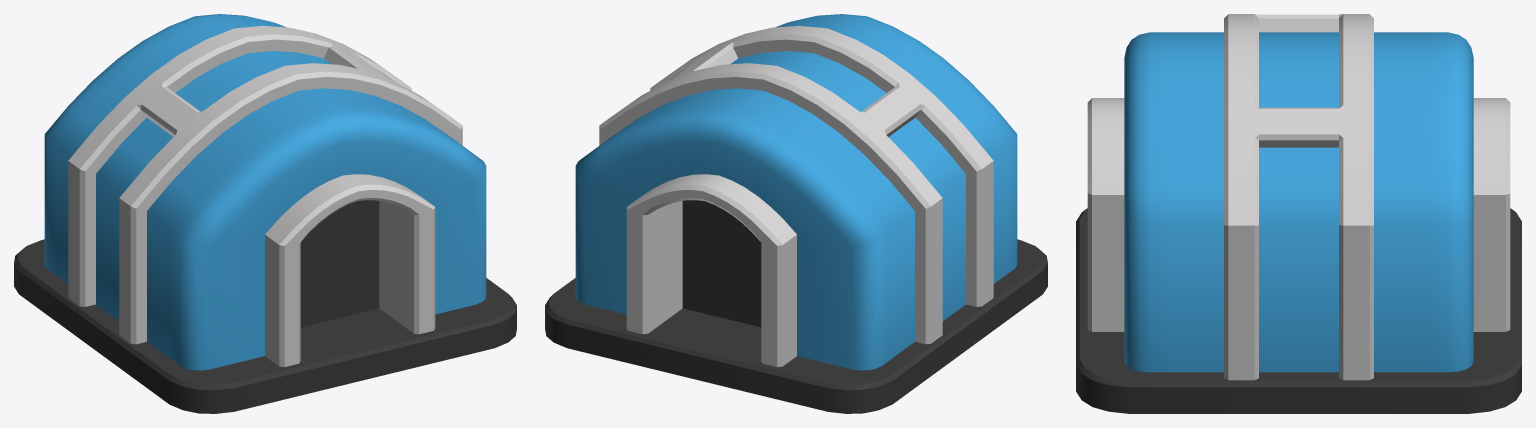
The model's file is Barracks_New.fbx.
The picture shows the model from 3 angles, left to right: view 1: azimuth 30°, elevation 25°; view 2: azimuth 150°, elevation 25°; view 3: azimuth 270°, elevation 25°; orthographic projection. The views are drawn at different scales.
Visible parts, largest first — view 1: Barrack_New; view 2: Barrack_New; view 3: Barrack_New.
Boxes of the visible parts, left/top/right/bottom form: Barrack_New: left=14, top=14, right=516, bottom=413; Barrack_New: left=545, top=14, right=1047, bottom=413; Barrack_New: left=1076, top=14, right=1521, bottom=413.
Size of the model in its own units: 4.85 by 3.47 by 4.85.
Materials: 1 (1 with a texture image).
